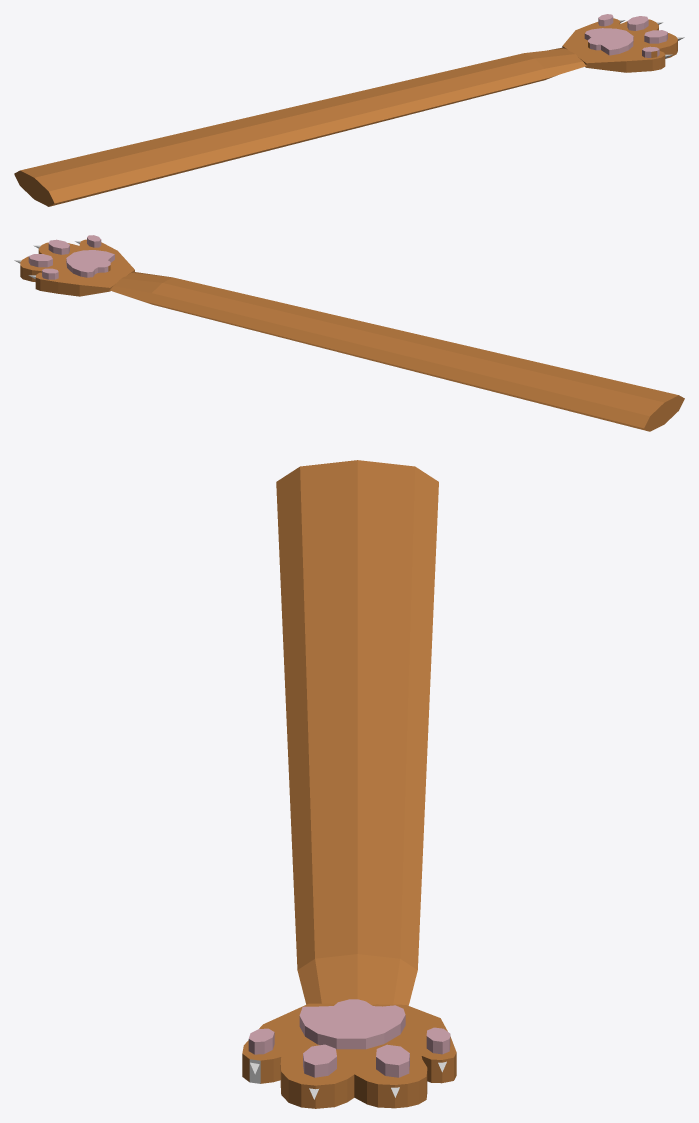
Rendered from lapka8.fbx.
3 views of the same model, one above another, from view 1: azimuth 30°, elevation 25°; view 2: azimuth 150°, elevation 25°; view 3: azimuth 270°, elevation 25° (orthographic). The views are drawn at different scales.
Parts seen in each view (by area): view 1: Circle.004; view 2: Circle.004; view 3: Circle.004.
Boxes of the visible parts, x1,y1,x2,y2 form: Circle.004: (14, 14, 684, 206); Circle.004: (14, 235, 684, 431); Circle.004: (242, 460, 456, 1108).
Bounding box in the file's own units: 159 × 5.53 × 23.03.
